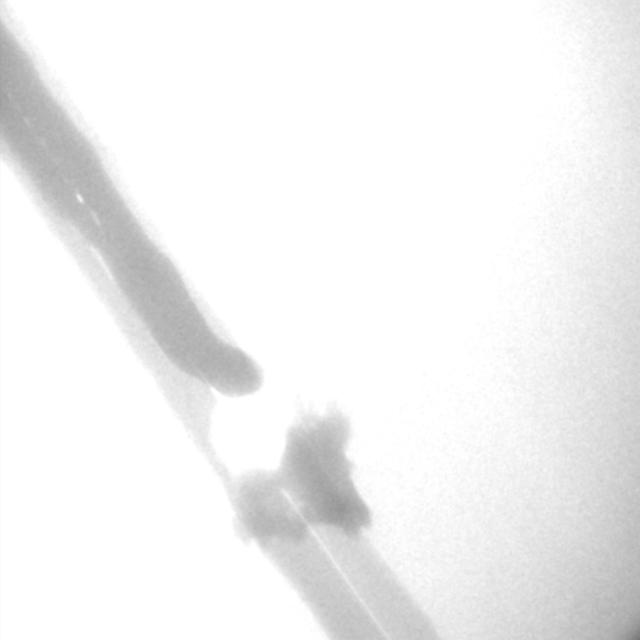air hole: (74, 192, 83, 204)
broken arc: (210, 386, 389, 636)
